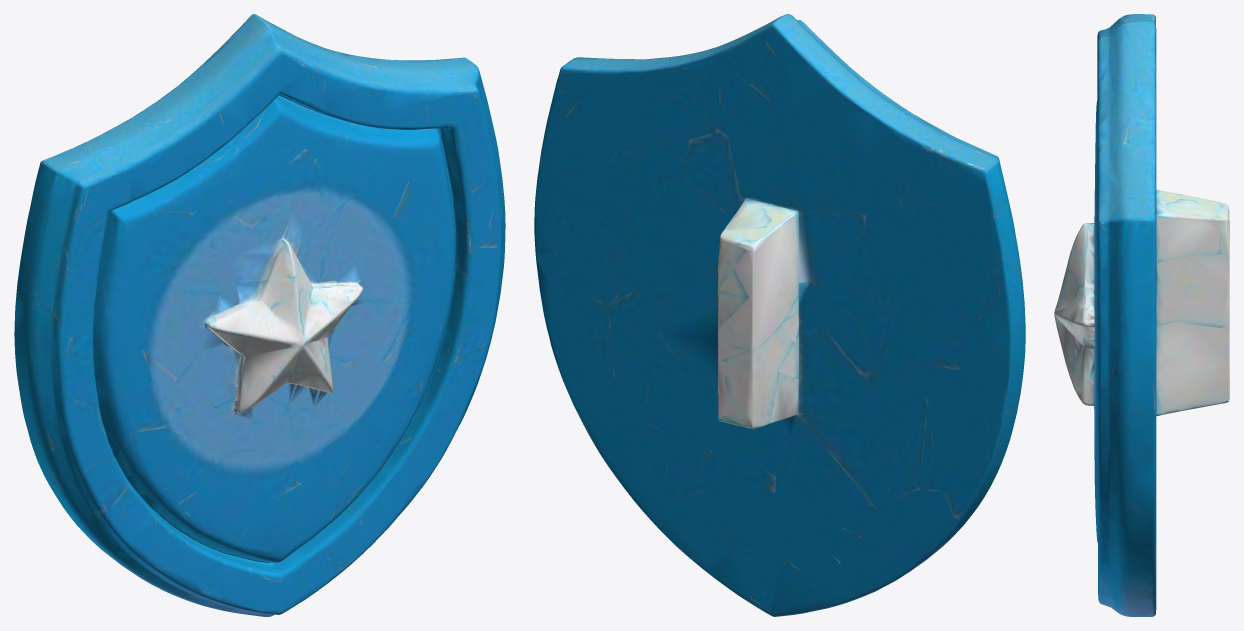
File: gem-shield.glb
3 renders of one model, left to right at view 1: azimuth 30°, elevation 25°; view 2: azimuth 150°, elevation 25°; view 3: azimuth 270°, elevation 25°, orthographic.
Size of the model in its own units: 1.6 by 1.9 by 0.5119.
1 material, 1 textured.
